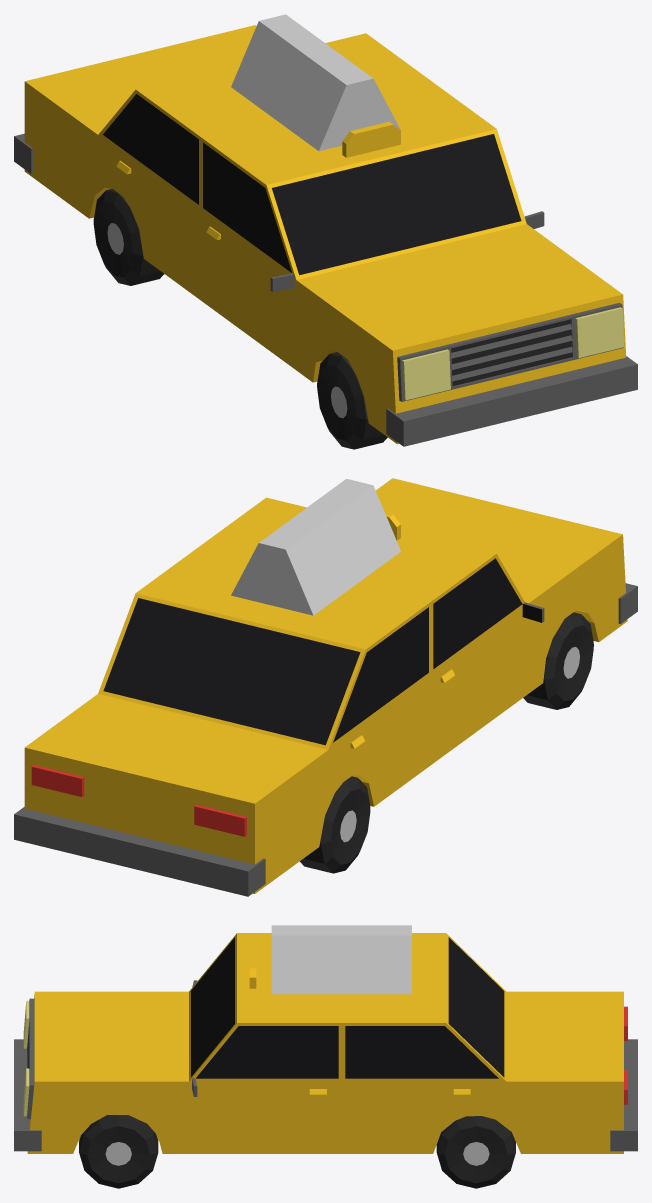
File: Taxi.fbx
3 views of the same model, one above another, from view 1: azimuth 30°, elevation 25°; view 2: azimuth 150°, elevation 25°; view 3: azimuth 270°, elevation 25° (orthographic). The views are drawn at different scales.
Visible parts, largest first — view 1: Taxi; view 2: Taxi; view 3: Taxi.
Part boxes in pixels (<box>): Taxi: <box>14,14,637,449</box>; Taxi: <box>14,478,637,896</box>; Taxi: <box>14,925,637,1188</box>.
Size of the model in its own units: 2.58 by 2.42 by 6.41.
